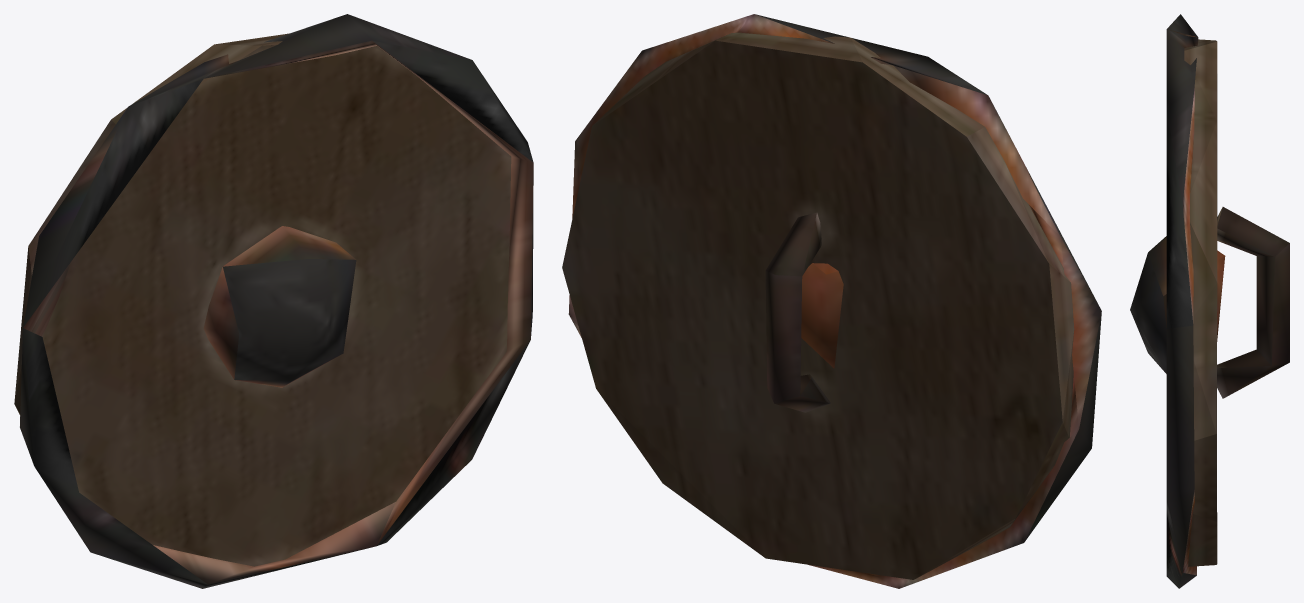
The model's file is eq_shield_1_lod2.glb.
The picture shows the model from 3 angles, left to right: view 1: azimuth 30°, elevation 25°; view 2: azimuth 150°, elevation 25°; view 3: azimuth 270°, elevation 25°; orthographic projection. The views are drawn at different scales.
Visible parts, largest first — view 1: eq_shield_1_lod2; view 2: eq_shield_1_lod2; view 3: eq_shield_1_lod2.
Boxes of the visible parts, x1,y1,x2,y2 form: eq_shield_1_lod2: (14,14,533,588); eq_shield_1_lod2: (562,14,1101,588); eq_shield_1_lod2: (1130,14,1289,588).
Size of the model in its own units: 0.7045 by 0.6966 by 0.2031.
1 material, 1 textured.
